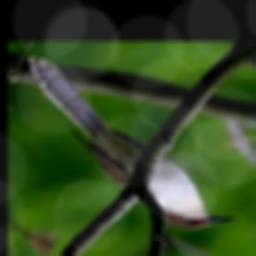Cuckoo: (27, 56, 236, 229)
